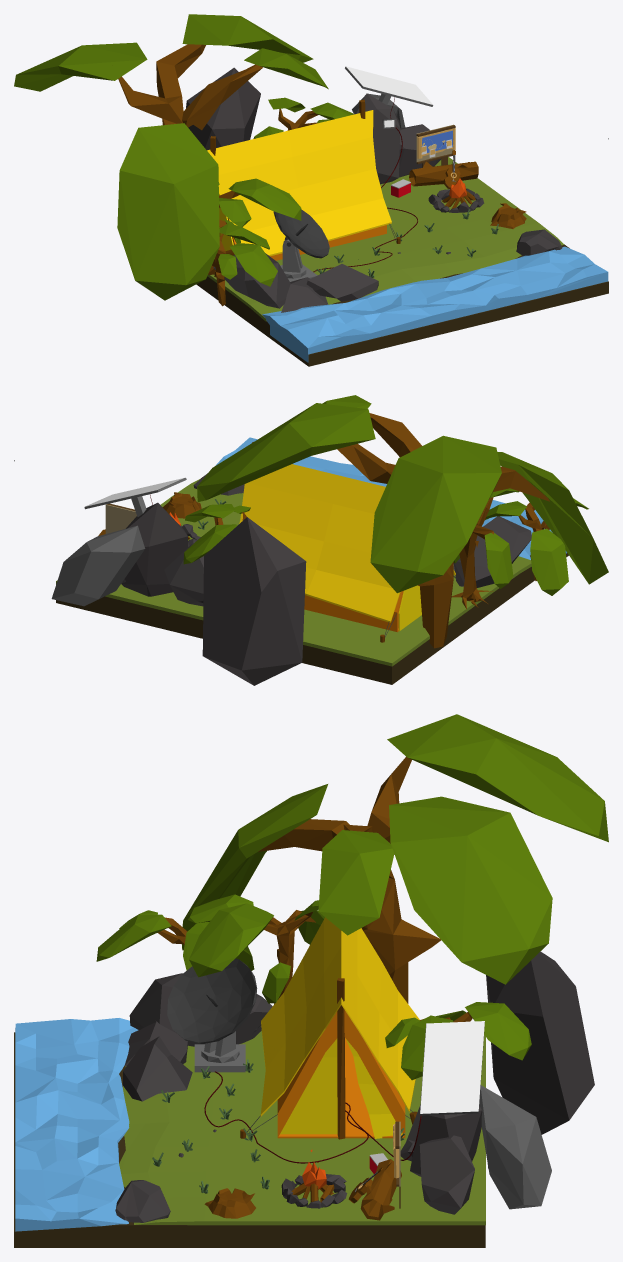
Rendered from campsite_simplify_wireless_ver3.1.glb.
3 views of the same model, one above another, from view 1: azimuth 30°, elevation 25°; view 2: azimuth 150°, elevation 25°; view 3: azimuth 270°, elevation 25° (orthographic). The views are drawn at different scales.
Visible parts, largest first — view 1: Small Tree 2.002, Rock2.003, Tent-main.001, Rock2.007, Rock2.005, Rock_1.004, Rock2.001, Rock2.006, Small Tree 2.001, Small Tree Leaves 1, Satellite Dish, Cube.070 (+8 smaller); view 2: Small Tree 2.002, Tent-main.001, Rock2.006, Rock2.007, Rock2.005, Rock2.001, Rock.001, Small Tree 2.001, Rock_1.004, Rock2.003, Small Tree Leaves 2, Small Tree 1 (+6 smaller); view 3: Small Tree 2.002, Rock2.007, Rock2.003, Tent-main.001, Rock2.006, Rock2.005, Rock_1.004, Rock.001, Rock2.001, Small Tree Leaves 1, Satellite Dish, Tent-main (+13 smaller).
Part boxes in pixels (left/top/right/bottom): Small Tree 2.002: left=14, top=14, right=328, bottom=300; Rock2.003: left=262, top=246, right=608, bottom=362; Tent-main.001: left=207, top=110, right=391, bottom=256; Rock2.007: left=207, top=157, right=564, bottom=321; Rock2.005: left=196, top=244, right=608, bottom=366; Rock_1.004: left=213, top=253, right=378, bottom=312; Rock2.001: left=356, top=93, right=440, bottom=184; Rock2.006: left=186, top=67, right=260, bottom=150; Small Tree 2.001: left=212, top=223, right=277, bottom=306; Small Tree Leaves 1: left=218, top=178, right=301, bottom=243; Satellite Dish: left=273, top=209, right=329, bottom=258; Cube.070: left=346, top=66, right=432, bottom=104; Small Tree 2.002: left=197, top=395, right=608, bottom=648; Tent-main.001: left=239, top=464, right=455, bottom=622; Rock2.006: left=202, top=517, right=306, bottom=685; Rock2.007: left=56, top=478, right=531, bottom=666; Rock2.005: left=56, top=476, right=568, bottom=684; Rock2.001: left=121, top=502, right=203, bottom=606; Rock.001: left=51, top=525, right=145, bottom=606; Small Tree 2.001: left=485, top=498, right=588, bottom=595; Rock_1.004: left=453, top=516, right=531, bottom=587; Rock2.003: left=215, top=437, right=566, bottom=559; Small Tree Leaves 2: left=183, top=504, right=250, bottom=564; Small Tree 1: left=451, top=497, right=493, bottom=609; Small Tree 2.002: left=181, top=714, right=608, bottom=1003; Rock2.007: left=119, top=1031, right=485, bottom=1225; Rock2.003: left=15, top=1018, right=138, bottom=1231; Tent-main.001: left=260, top=917, right=419, bottom=1116; Rock2.006: left=486, top=951, right=594, bottom=1134; Rock2.005: left=14, top=1032, right=485, bottom=1247; Rock_1.004: left=123, top=973, right=272, bottom=1101; Rock.001: left=479, top=1085, right=551, bottom=1209; Rock2.001: left=400, top=1104, right=482, bottom=1214; Small Tree Leaves 1: left=187, top=894, right=324, bottom=1003; Satellite Dish: left=167, top=958, right=257, bottom=1044; Tent-main: left=277, top=1010, right=405, bottom=1138.
Bounding box in the file's own units: 13.44 × 5.69 × 10.09.
